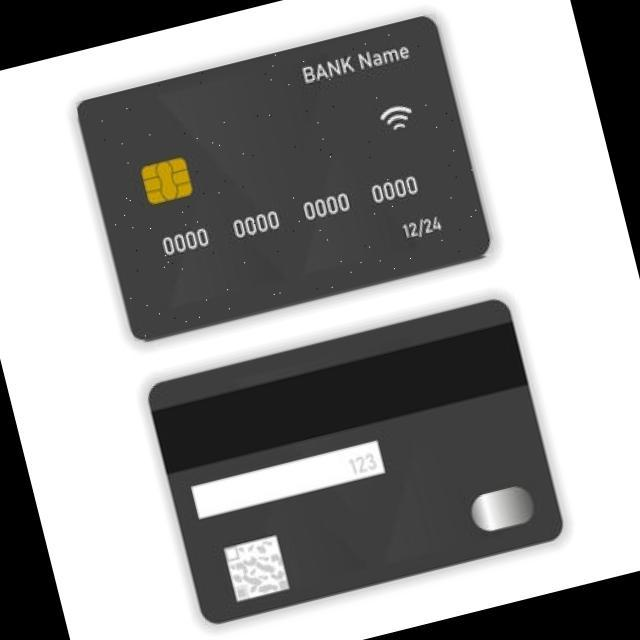payment_card: (74, 13, 492, 341), (146, 297, 564, 624)
